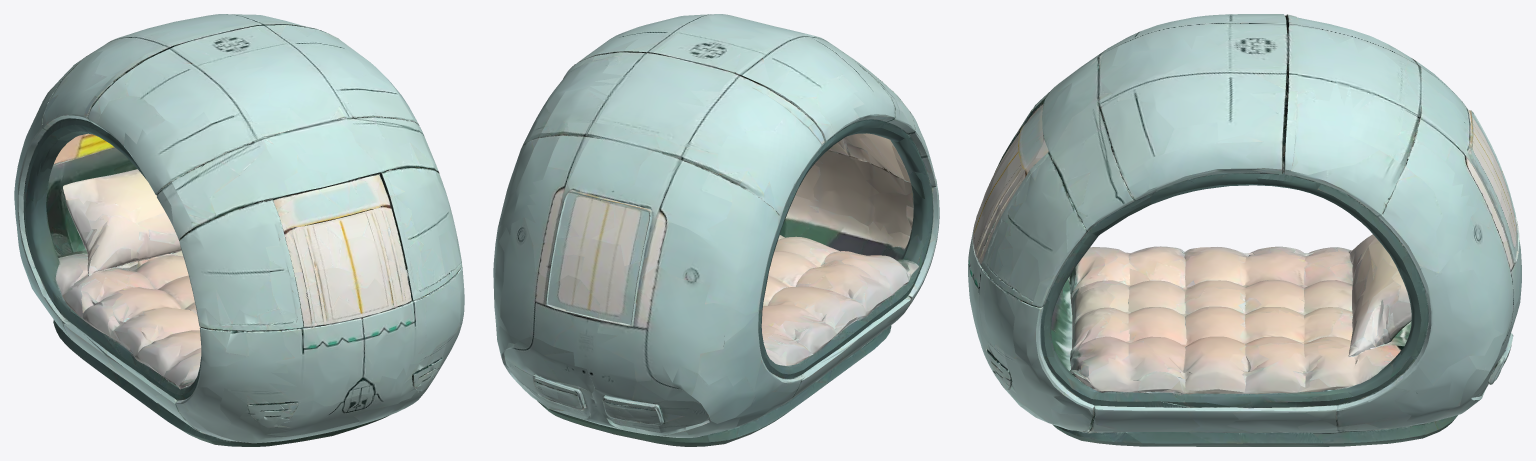
The model's file is fur-bed-pod.glb.
3 views of the same model, side by side, from view 1: azimuth 30°, elevation 25°; view 2: azimuth 150°, elevation 25°; view 3: azimuth 270°, elevation 25° (orthographic). The views are drawn at different scales.
Parts seen in each view (by area): view 1: Mesh_0; view 2: Mesh_0; view 3: Mesh_0.
Boxes of the visible parts, x1,y1,x2,y2 form: Mesh_0: (14, 14, 464, 446); Mesh_0: (493, 14, 939, 446); Mesh_0: (968, 14, 1521, 446).
Bounding box in the file's own units: 1.13 × 1.31 × 1.9.
Materials: 1 (1 with a texture image).
